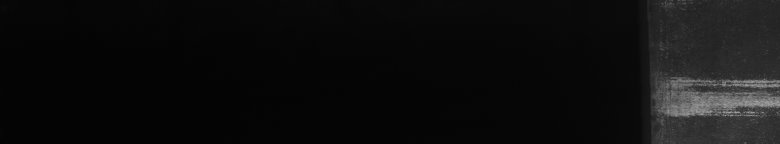kb: (662, 76, 776, 122)
